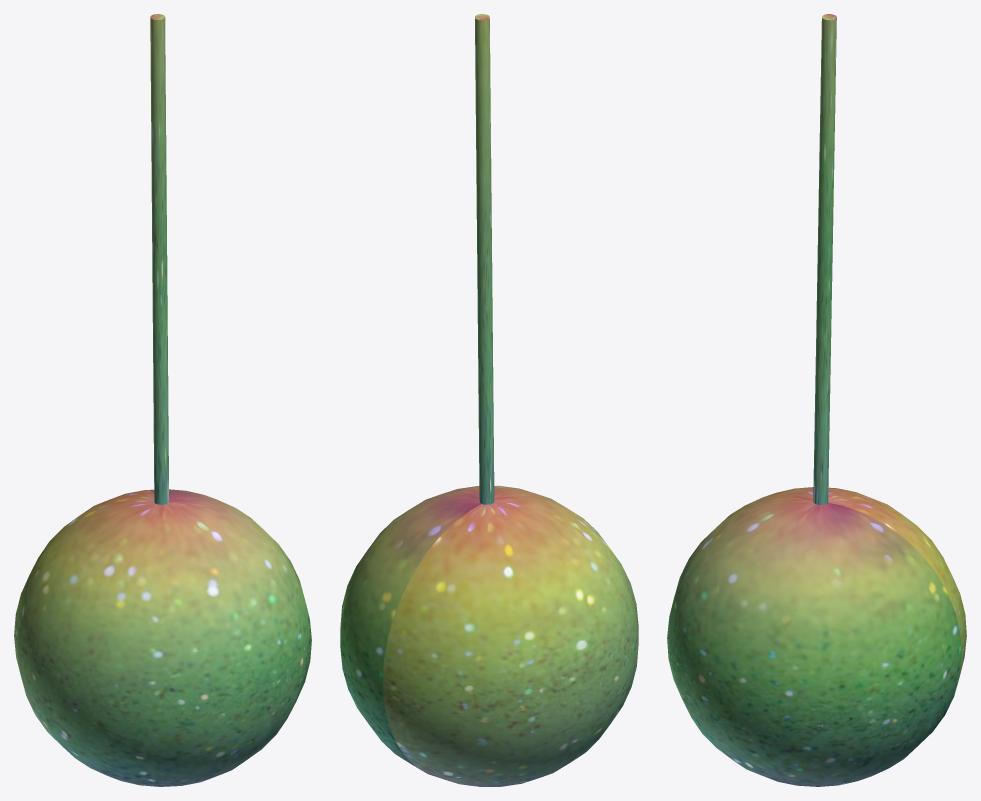
The model's file is WreckingBall.obj.
3 renders of one model, left to right at view 1: azimuth 30°, elevation 25°; view 2: azimuth 150°, elevation 25°; view 3: azimuth 270°, elevation 25°, orthographic.
Visible parts, largest first — view 1: BallAndCable WreckingBallAll World group1 WreckingBall, WreckingBallCable BallAndCable WreckingBallAll World group1; view 2: BallAndCable WreckingBallAll World group1 WreckingBall, WreckingBallCable BallAndCable WreckingBallAll World group1; view 3: BallAndCable WreckingBallAll World group1 WreckingBall, WreckingBallCable BallAndCable WreckingBallAll World group1.
Boxes of the visible parts, left/top/right/bottom form: BallAndCable WreckingBallAll World group1 WreckingBall: left=14, top=489, right=311, bottom=786; WreckingBallCable BallAndCable WreckingBallAll World group1: left=150, top=14, right=169, bottom=504; BallAndCable WreckingBallAll World group1 WreckingBall: left=340, top=485, right=638, bottom=786; WreckingBallCable BallAndCable WreckingBallAll World group1: left=475, top=14, right=494, bottom=504; BallAndCable WreckingBallAll World group1 WreckingBall: left=667, top=487, right=966, bottom=786; WreckingBallCable BallAndCable WreckingBallAll World group1: left=813, top=14, right=836, bottom=504.
Bounding box in the file's own units: 32.56 × 90.62 × 32.55.
Materials: 1 (1 with a texture image).
